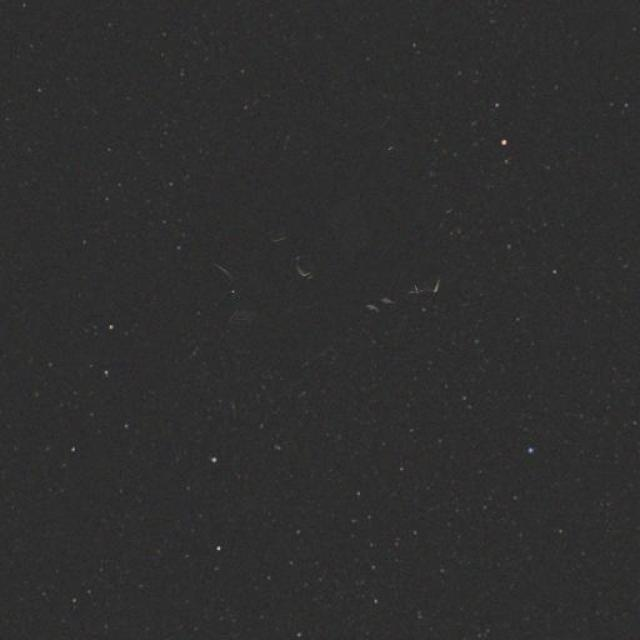proba_3_ocs: (188, 103, 465, 350)
